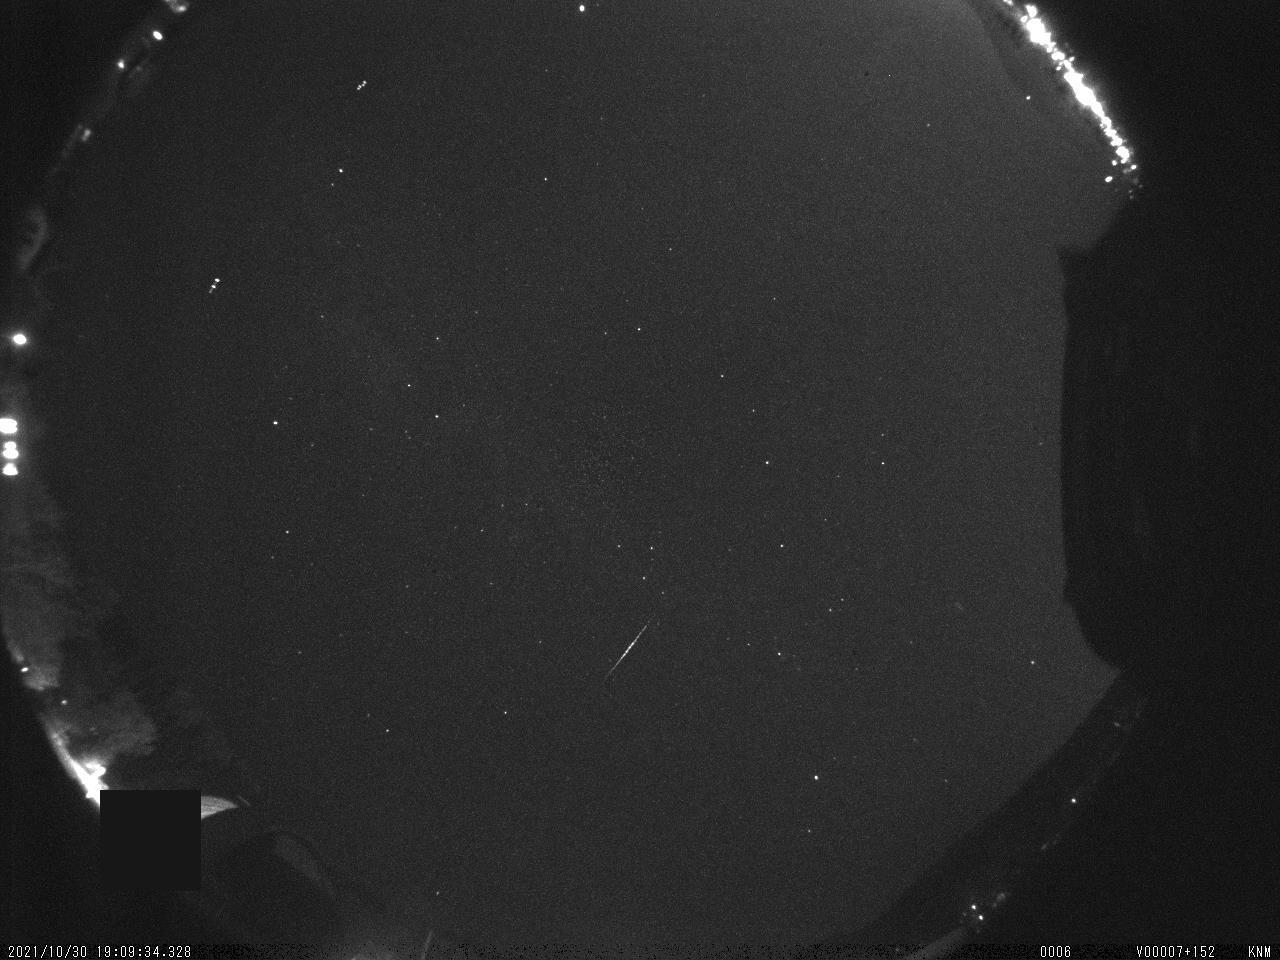Meteor: (604, 615, 659, 682)
